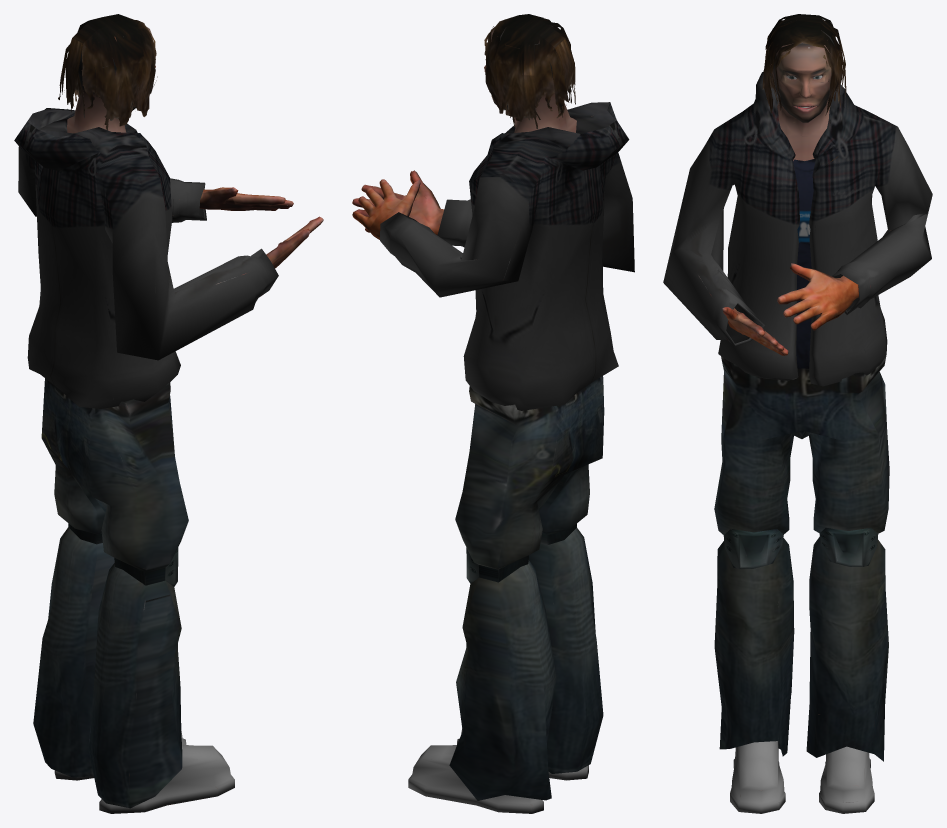
The model's file is person.obj.
3 views of the same model, side by side, from view 1: azimuth 30°, elevation 25°; view 2: azimuth 150°, elevation 25°; view 3: azimuth 270°, elevation 25° (orthographic). The views are drawn at different scales.
Visible parts, largest first — view 1: person_Cube.002; view 2: person_Cube.002; view 3: person_Cube.002.
Boxes of the visible parts, x1,y1,x2,y2 form: person_Cube.002: (14, 14, 323, 813); person_Cube.002: (352, 14, 634, 813); person_Cube.002: (663, 14, 932, 813).
Bounding box in the file's own units: 5.25 × 13.64 × 4.45.
1 material, 1 textured.
